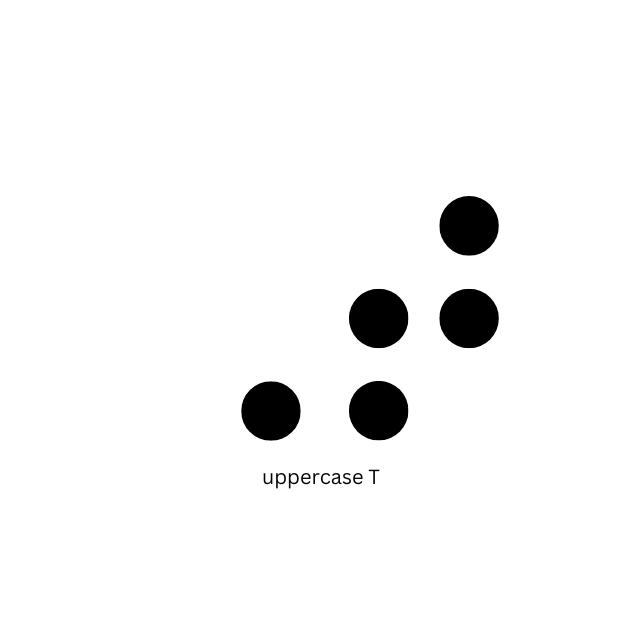capital_sign: (152, 195, 301, 442)
letter_T: (350, 194, 499, 441)
